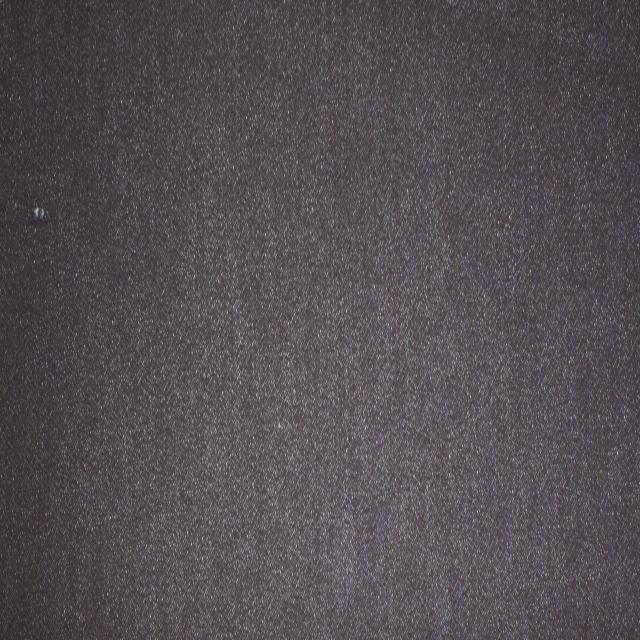pulled_or_thick_thread: (34, 206, 46, 221)
